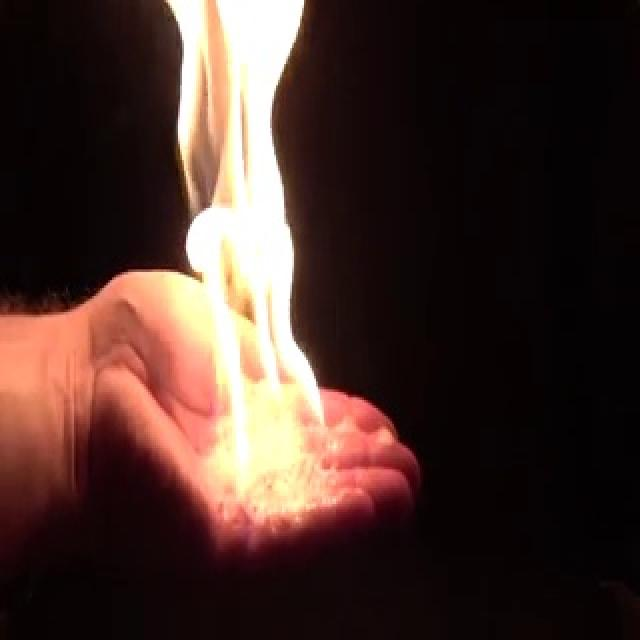fire: (151, 0, 333, 472)
